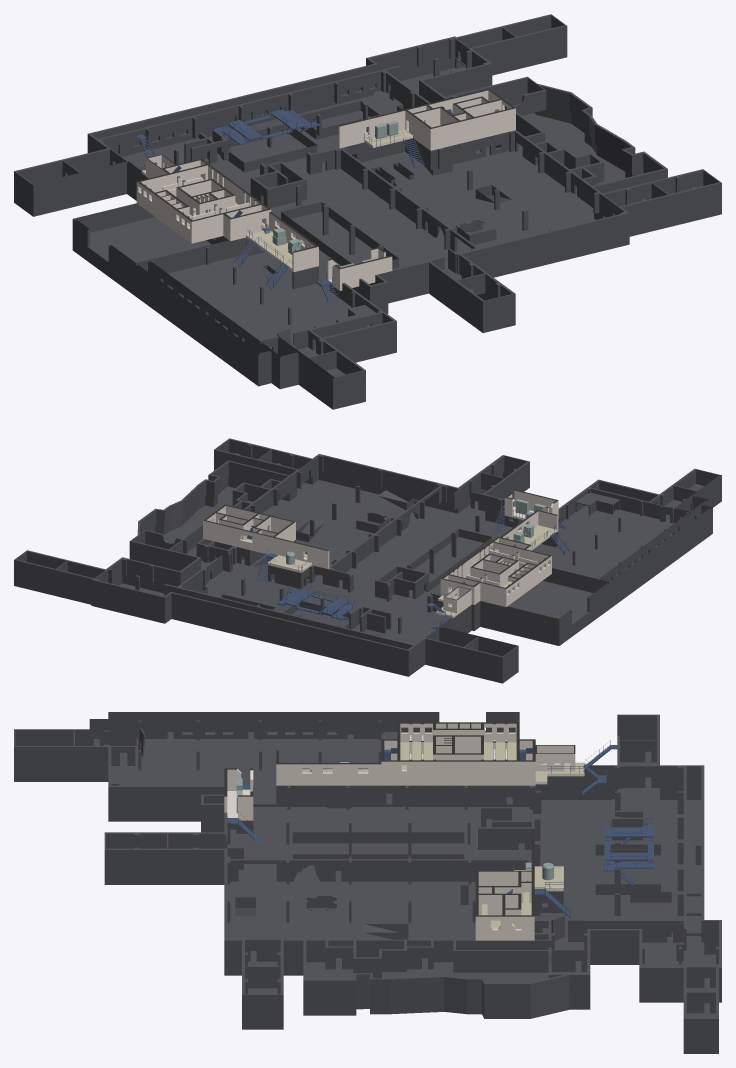
The model's file is factory_second_floor.glb.
3 views of the same model, one above another, from view 1: azimuth 30°, elevation 25°; view 2: azimuth 150°, elevation 25°; view 3: azimuth 270°, elevation 25° (orthographic). The views are drawn at different scales.
Visible parts, largest first — view 1: root; view 2: root; view 3: root.
Part boxes in pixels (x1,y1,x2,y2): root: (14, 14, 721, 409); root: (14, 438, 721, 683); root: (14, 712, 721, 1053).
Size of the model in its own units: 246 by 24.29 by 239.
Materials: 1 (1 with a texture image).
